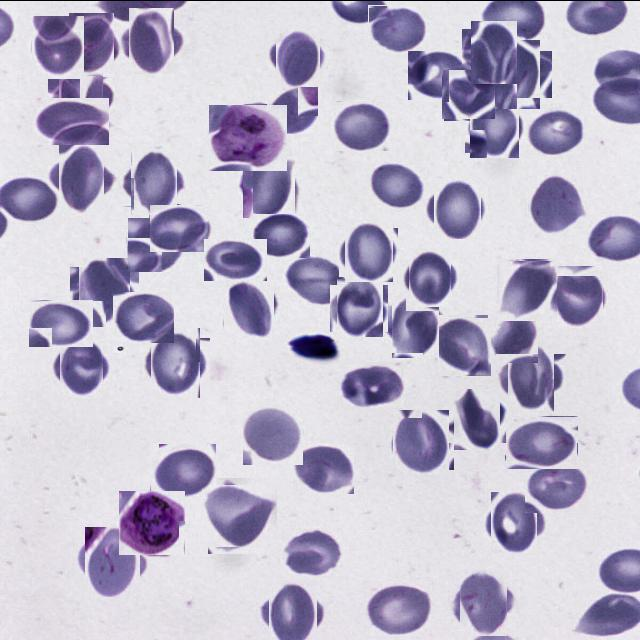red blood cell: (204, 480, 274, 550), (81, 529, 144, 592), (505, 415, 578, 468), (363, 580, 432, 635), (391, 411, 452, 472), (30, 97, 109, 144), (74, 262, 135, 322), (428, 316, 489, 376), (145, 332, 205, 392), (496, 260, 556, 320), (150, 442, 216, 496), (243, 406, 303, 464), (528, 175, 587, 233), (502, 348, 560, 406), (52, 148, 110, 206), (488, 44, 546, 102), (29, 17, 87, 75), (263, 583, 322, 640), (283, 254, 347, 306), (525, 461, 589, 512), (240, 158, 298, 214), (548, 268, 606, 324), (388, 294, 444, 352), (455, 574, 512, 630), (54, 70, 110, 126), (123, 12, 179, 68), (28, 298, 93, 346), (293, 442, 354, 493), (113, 291, 174, 342), (338, 360, 404, 407), (126, 155, 182, 210), (127, 216, 183, 271), (281, 526, 343, 575), (467, 23, 522, 78), (430, 180, 484, 235), (222, 282, 277, 336), (54, 340, 109, 394), (64, 17, 119, 71), (449, 392, 504, 446), (408, 50, 468, 99), (468, 100, 522, 154), (488, 494, 542, 548), (342, 224, 396, 278), (333, 100, 390, 150), (525, 106, 584, 154), (149, 203, 208, 251), (368, 4, 426, 52), (334, 282, 386, 334), (272, 30, 324, 82), (204, 238, 267, 280), (404, 251, 455, 302), (444, 68, 494, 120), (370, 162, 426, 208), (488, 311, 538, 362), (266, 84, 318, 133), (253, 213, 310, 257)
trophozoite: (208, 103, 287, 170), (119, 490, 185, 555)
